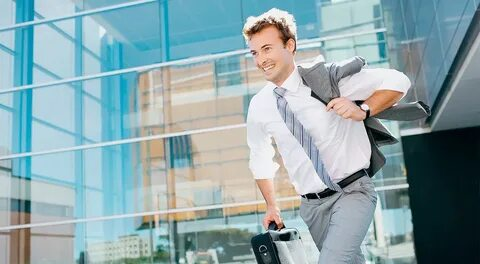awake: (241, 7, 414, 264)
